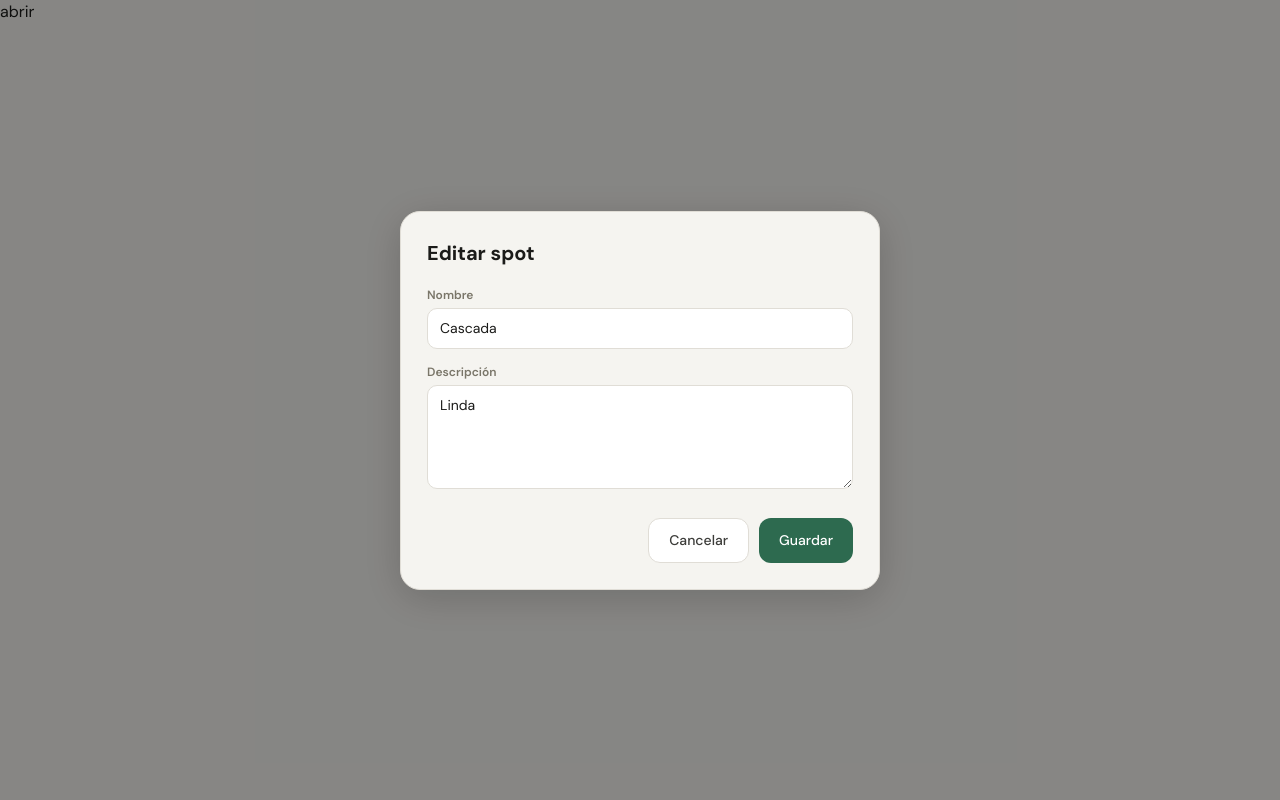
Test case: EditSpotModal › si falla, queda abierto y muestra el motivo del backend
Click the button "Guardar". click: x=806, y=540
box: [759,518,853,562]
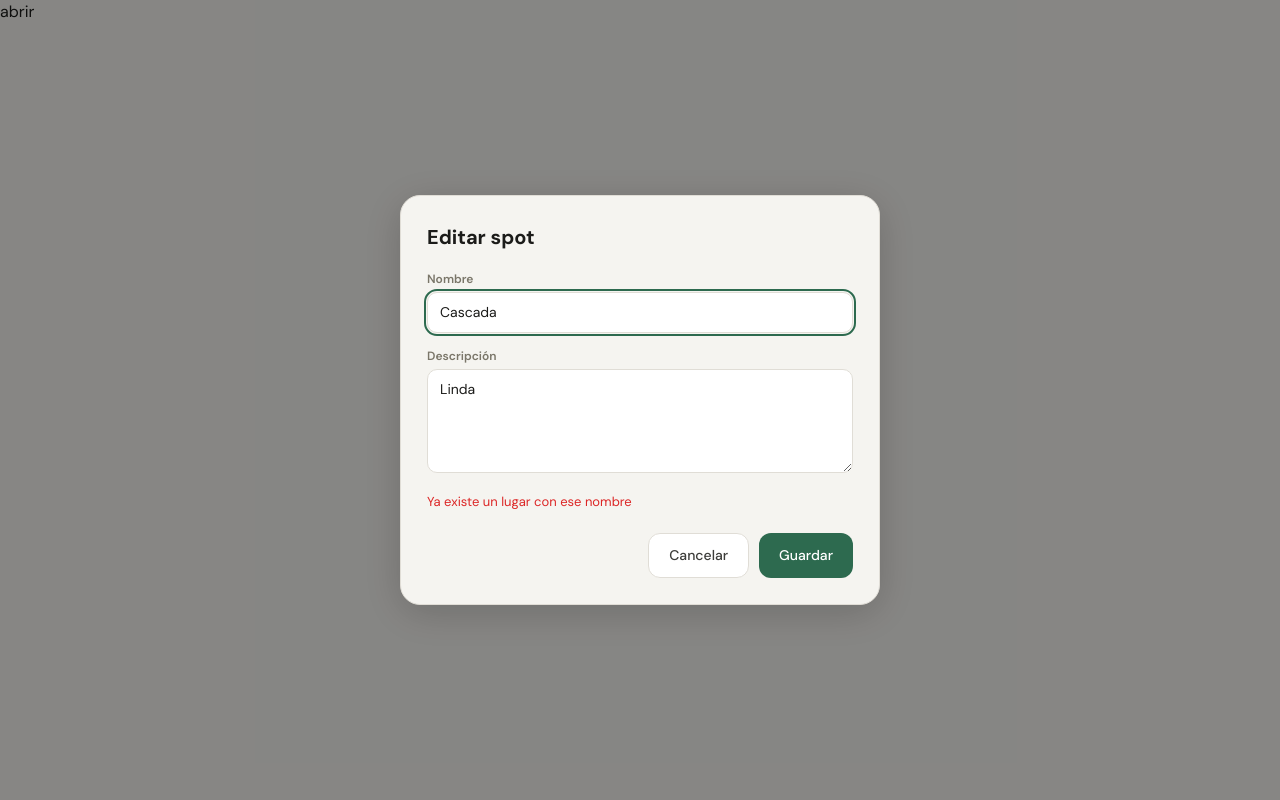
Expected: the dialog is shown, [400,195,880,605]
Now the message reads "Ya existe un lugar con ese nombre", box [427,493,632,510]
